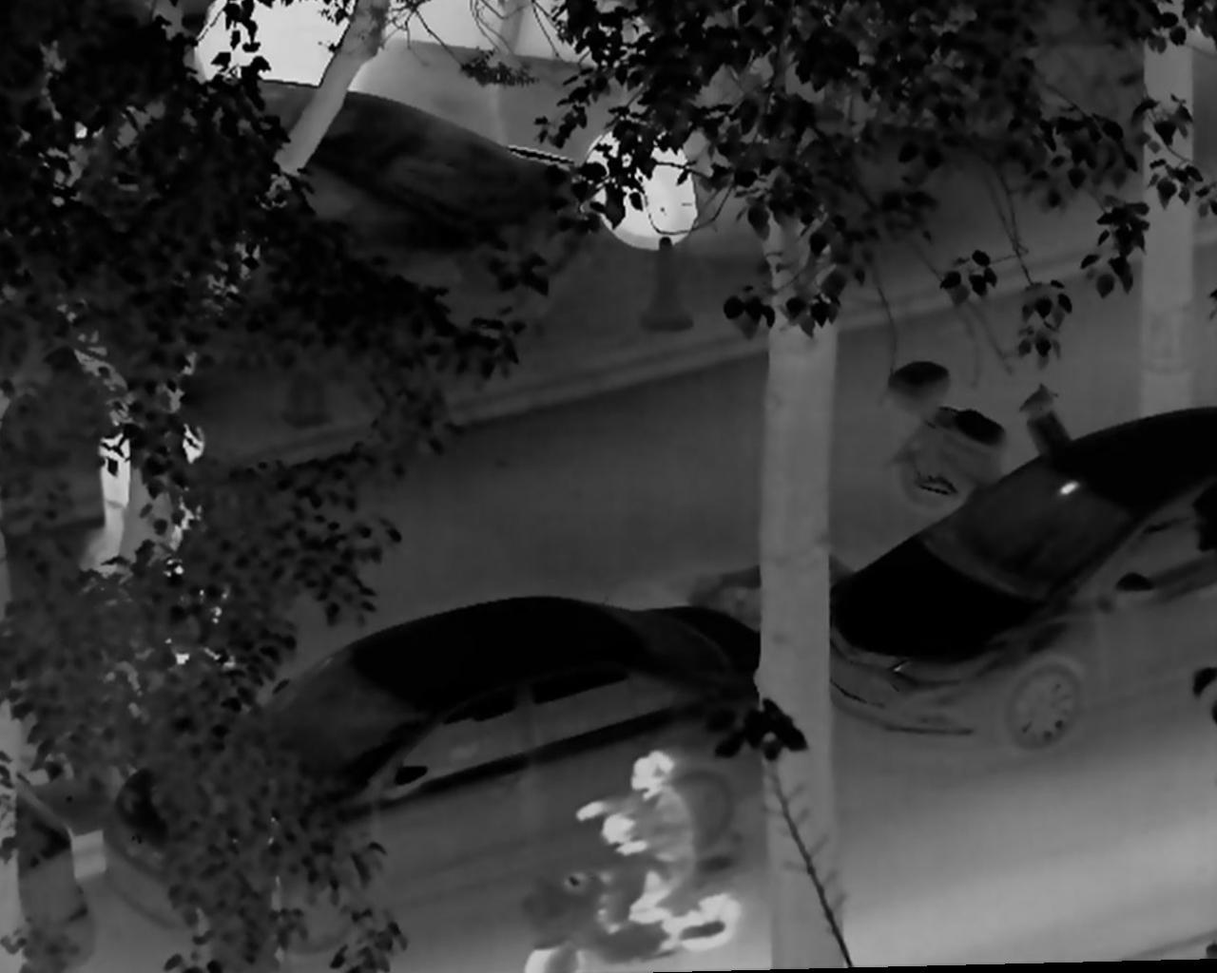person: (571, 740, 706, 954), (148, 420, 238, 677), (89, 392, 164, 588)
